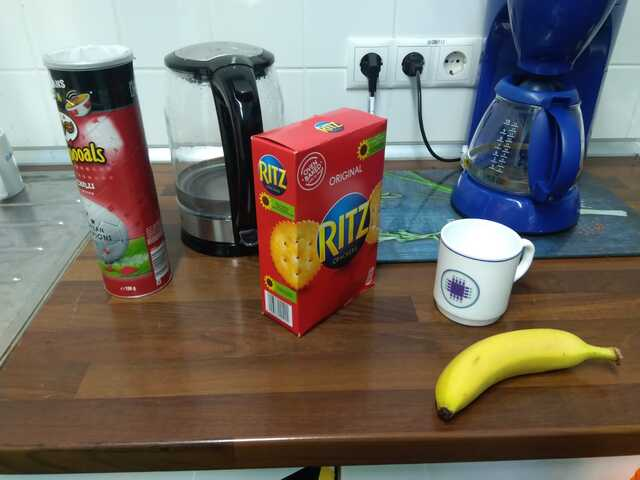001_chips_can: (44, 44, 174, 298)
003_cracker_box: (247, 107, 389, 338)
011_banana: (432, 326, 626, 422)
025_mug: (432, 218, 535, 330)
